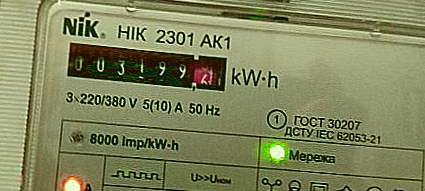0: (70, 53, 83, 72), (93, 54, 104, 73)
1: (135, 54, 144, 73)
3: (114, 58, 123, 77)
6: (197, 71, 208, 87)
9: (175, 62, 185, 80), (155, 58, 164, 76)
screen: (59, 37, 233, 99)
